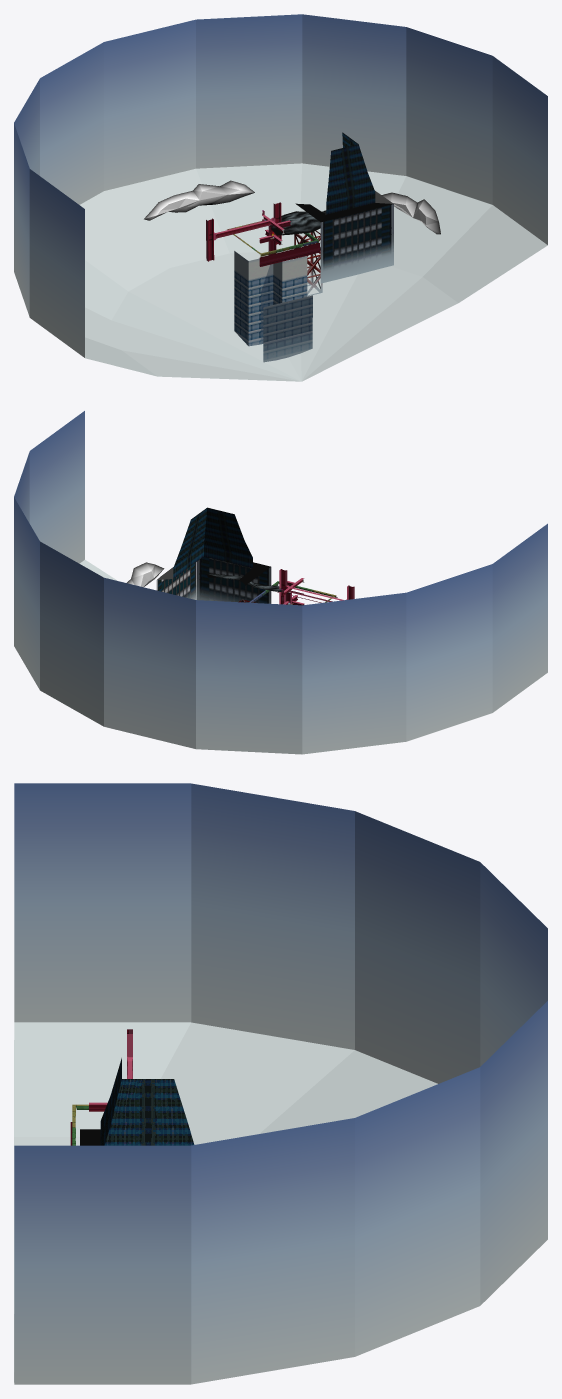
3 views of the same model, one above another, from view 1: azimuth 30°, elevation 25°; view 2: azimuth 150°, elevation 25°; view 3: azimuth 270°, elevation 25° (orthographic). The views are drawn at different scales.
Parts seen in each view (by area): view 1: extra_1b104, extra_1b7b4, extra_1bcc4, part42, extra_1bf04, extra_19784, extra_1c1f4, extra_1bfe0, extra_1c390; view 2: extra_1b104, extra_1b7b4, extra_19784, part42; view 3: extra_1b104, extra_1b7b4.
Part boxes in pixels (x1,y1,x2,y2): extra_1b104: [14, 14, 547, 381]; extra_1b7b4: [295, 132, 393, 283]; extra_1bcc4: [234, 251, 307, 346]; part42: [144, 180, 440, 234]; extra_1bf04: [263, 295, 312, 362]; extra_19784: [206, 202, 281, 261]; extra_1c1f4: [270, 210, 326, 235]; extra_1bfe0: [294, 230, 322, 296]; extra_1c390: [259, 243, 320, 266]; extra_1b104: [14, 411, 547, 754]; extra_1b7b4: [156, 507, 271, 603]; extra_19784: [279, 569, 354, 604]; part42: [127, 562, 164, 587]; extra_1b104: [14, 783, 547, 1384]; extra_1b7b4: [80, 1058, 194, 1145].
Size of the model in its own units: 34 by 16.32 by 21.2.
Materials: 26 (24 with a texture image).
